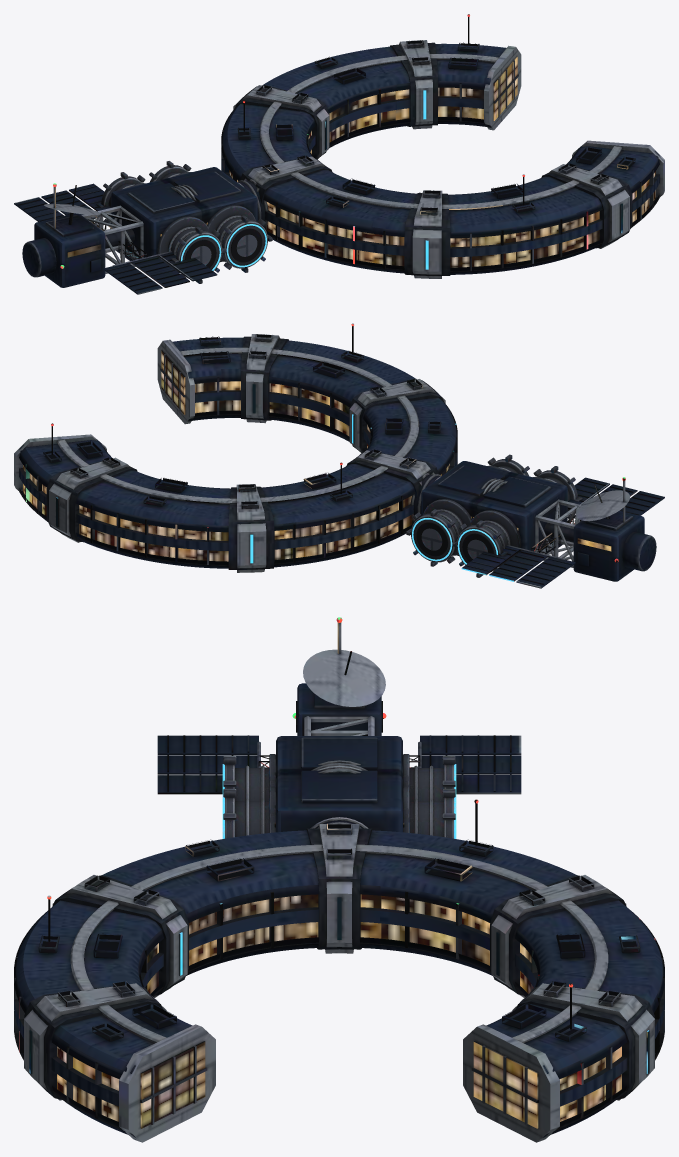
Rendered from station-lunar-data-center.glb.
The picture shows the model from 3 angles, top to bottom: view 1: azimuth 30°, elevation 25°; view 2: azimuth 150°, elevation 25°; view 3: azimuth 270°, elevation 25°; orthographic projection. The views are drawn at different scales.
Parts seen in each view (by area): view 1: station, berth_2, berth_4, berth_3, berth_1; view 2: station, berth_1, berth_3, berth_4, berth_2; view 3: station, berth_1, berth_2, berth_3, berth_4.
Boxes of the visible parts, x1,y1,x2,y2 form: station: (14, 14, 664, 294); berth_2: (207, 205, 272, 272); berth_4: (157, 216, 226, 283); berth_3: (96, 172, 145, 223); berth_1: (149, 161, 191, 182); station: (14, 323, 664, 588); berth_1: (406, 499, 471, 566); berth_3: (452, 510, 521, 577); berth_4: (533, 466, 582, 518); berth_2: (487, 454, 529, 476); station: (14, 617, 664, 1142); berth_1: (403, 786, 456, 838); berth_2: (222, 786, 275, 838); berth_3: (403, 754, 456, 800); berth_4: (222, 754, 275, 800).
Bounding box in the file's own units: 1 × 0.1779 × 0.6829.
Materials: 2 (2 with a texture image).
